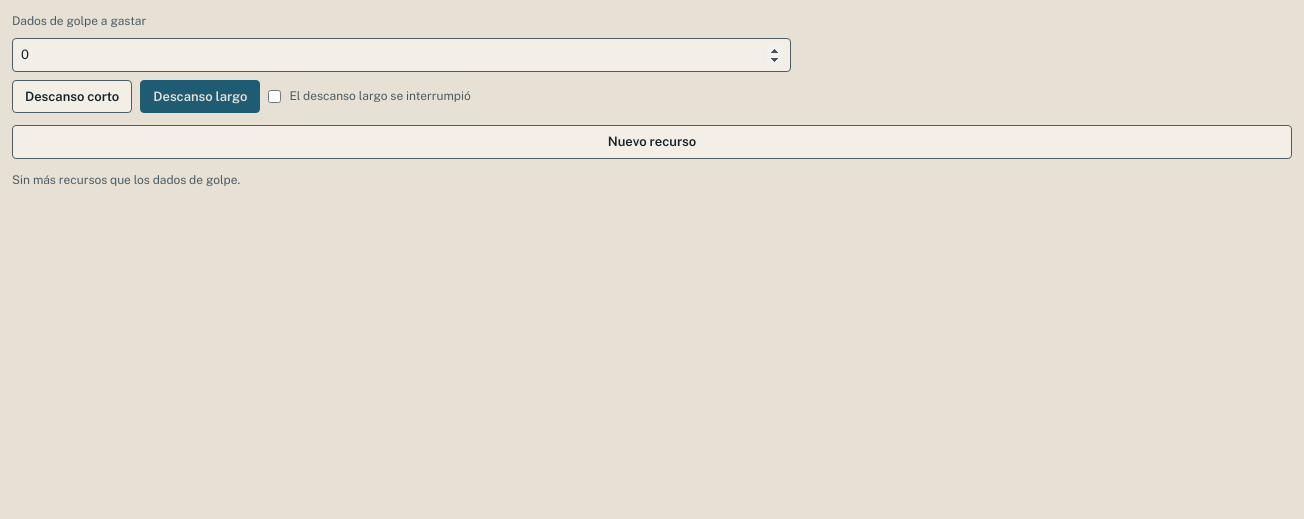
Test case: crear un recurso desde la hoja (paso 1, tarea 10) › la reposición son RADIOS con su frase, no un desplegable
Click the button "Nuevo recurso".
click(652, 142)  # box [12,125,1292,158]
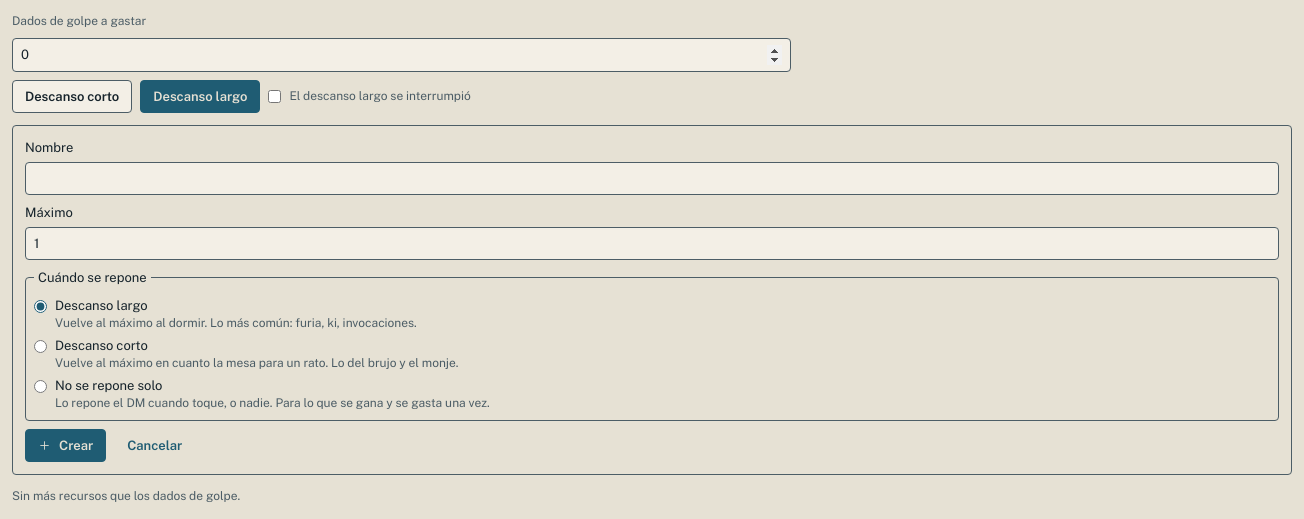
expect the radio button labelled "Descanso largo" is shown: met, box [34,300,47,312]
expect the radio button labelled "Descanso corto" is shown: met, box [34,340,47,352]
expect the radio button labelled "No se repone solo" is shown: met, box [34,380,47,392]
